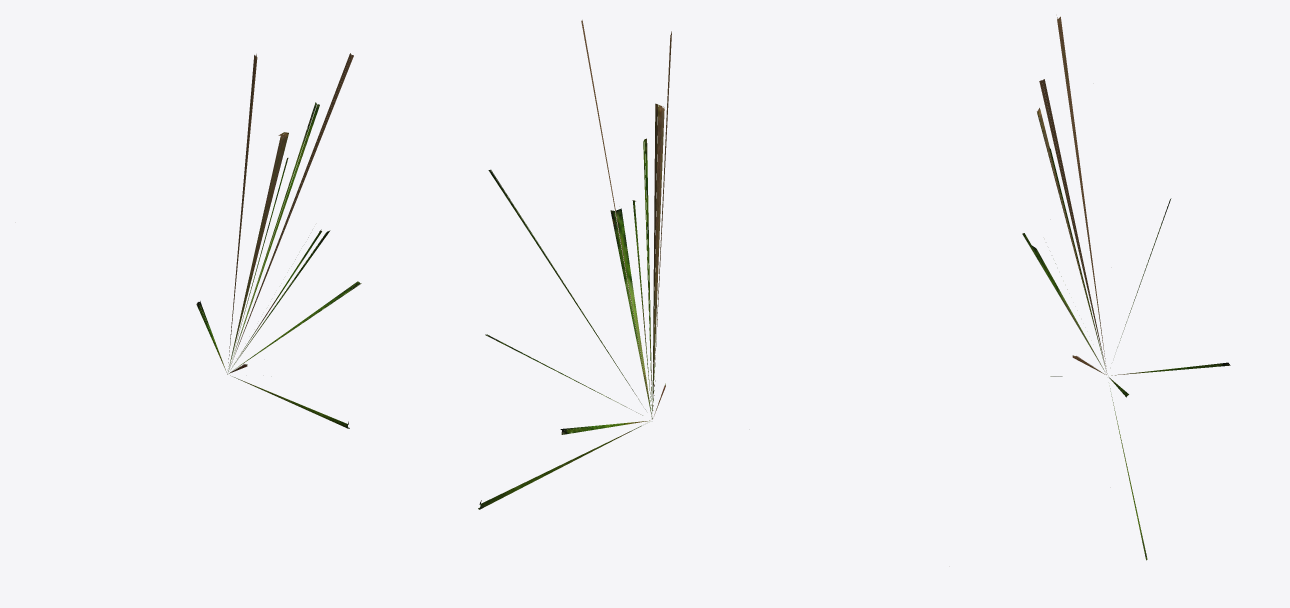
File: prop_logs_01.glb
The picture shows the model from 3 angles, left to right: view 1: azimuth 30°, elevation 25°; view 2: azimuth 150°, elevation 25°; view 3: azimuth 270°, elevation 25°; orthographic projection. The views are drawn at different scales.
Visible parts, largest first — view 1: geometry_0; view 2: geometry_0; view 3: geometry_0.
Part boxes in pixels (bbox=[...]): geometry_0: bbox=[196, 53, 361, 428]; geometry_0: bbox=[478, 20, 671, 509]; geometry_0: bbox=[1022, 16, 1230, 560].
Bounding box in the file's own units: 0.8567 × 0.9355 × 0.5052.
Materials: 1 (1 with a texture image).
